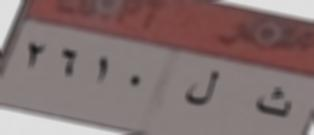0: (125, 65, 147, 97)
1: (90, 44, 114, 91)
2: (24, 32, 49, 76)
6: (57, 43, 82, 82)
laam: (184, 63, 222, 111)
thaa: (253, 83, 293, 128)
